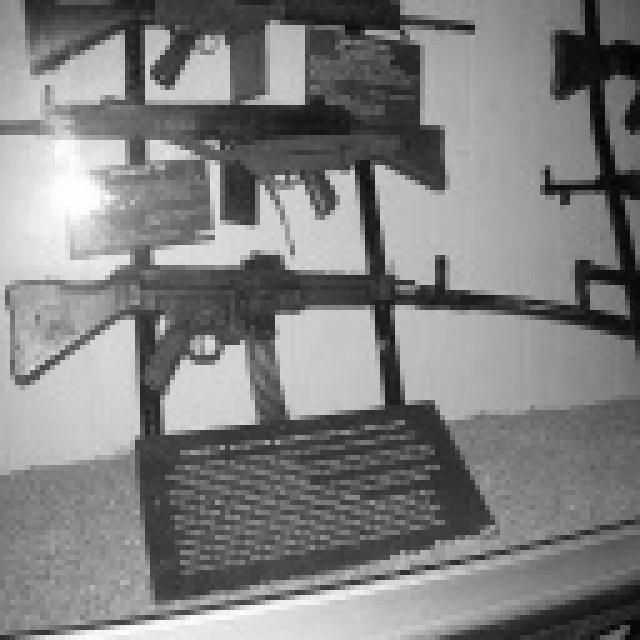Rifle: (0, 233, 523, 433), (0, 76, 465, 257), (0, 0, 499, 95), (518, 4, 640, 121), (518, 253, 640, 364), (510, 140, 640, 220)
